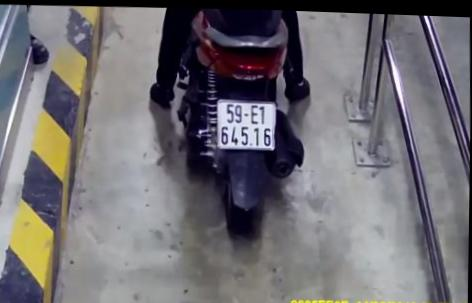LP: (216, 95, 277, 149)
